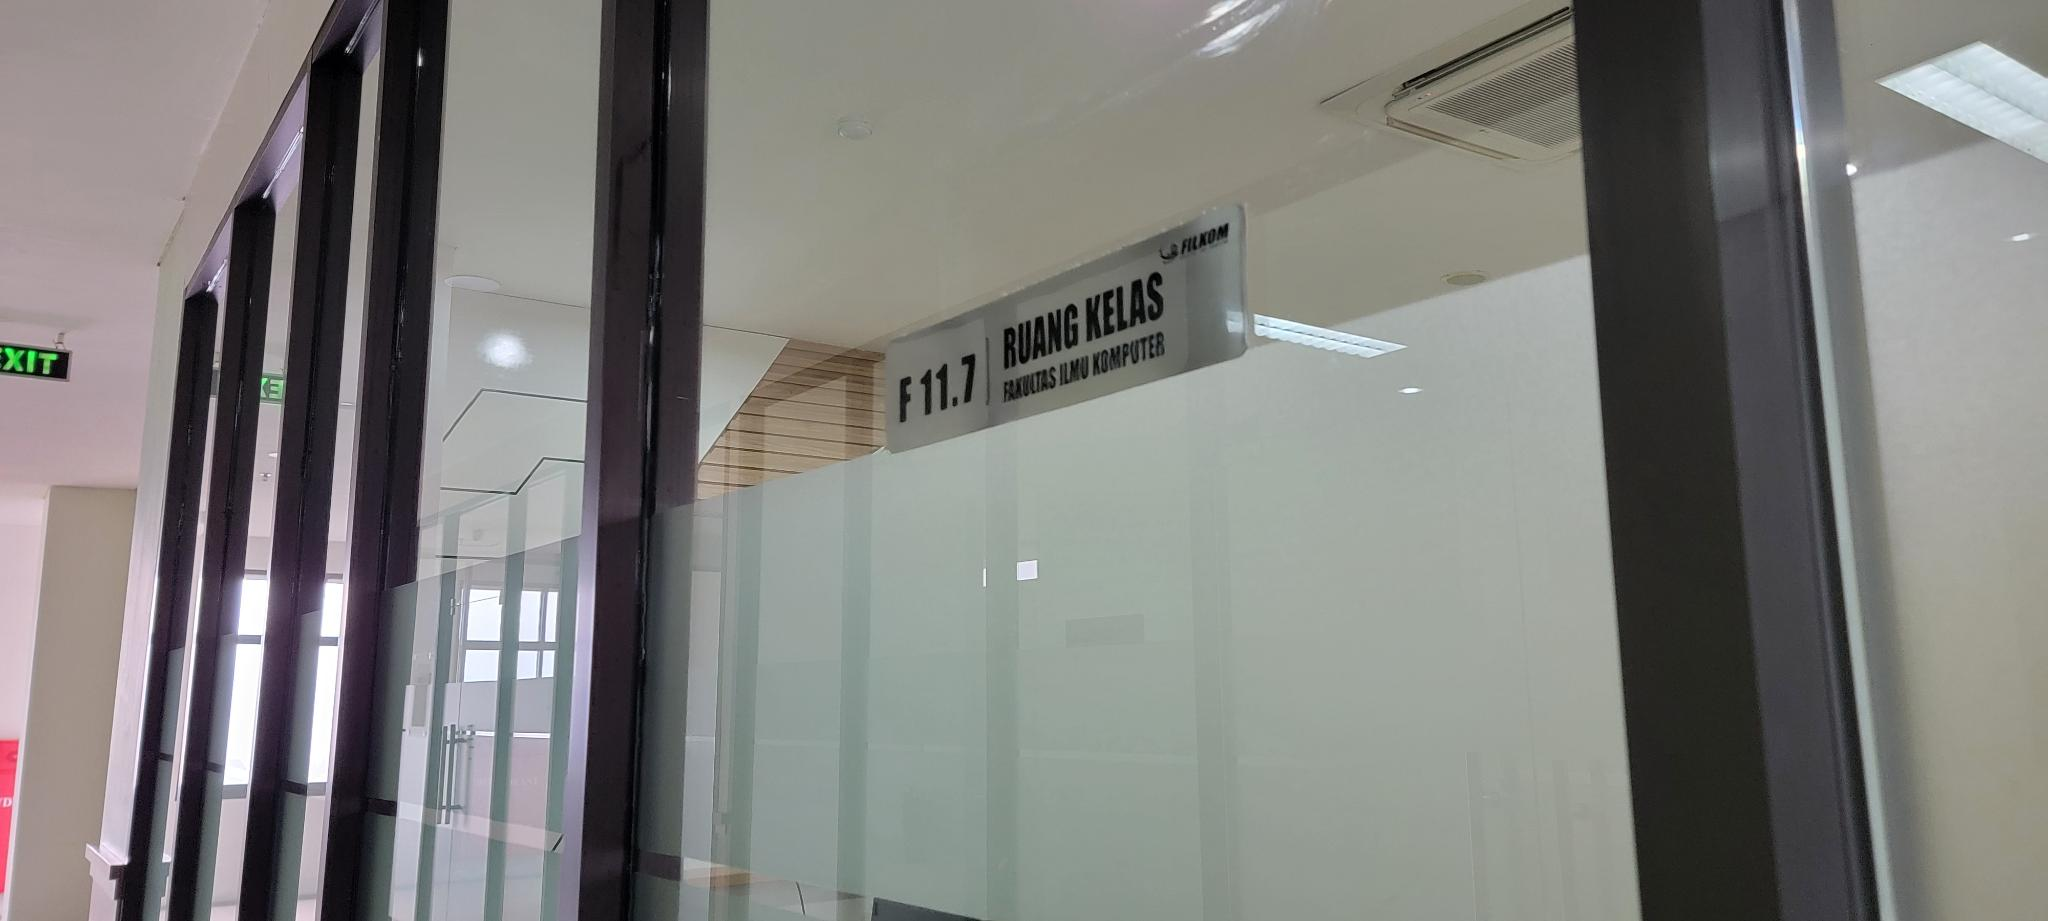plate: (879, 201, 1249, 456)
